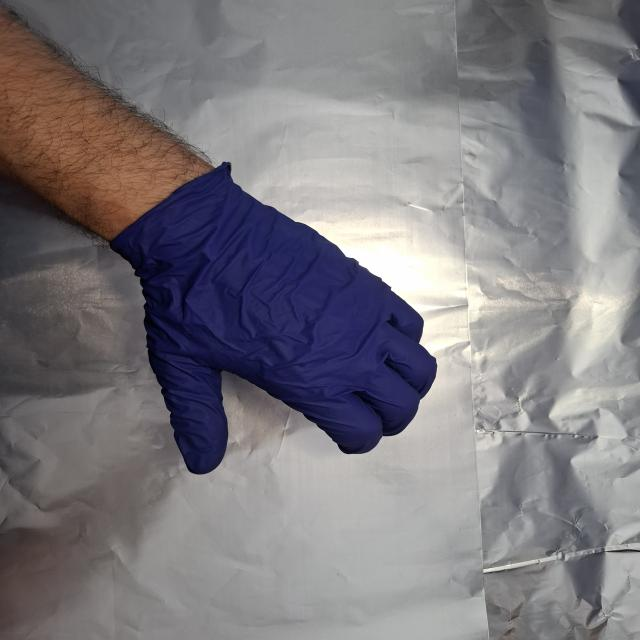glove_on: (117, 161, 443, 479)
